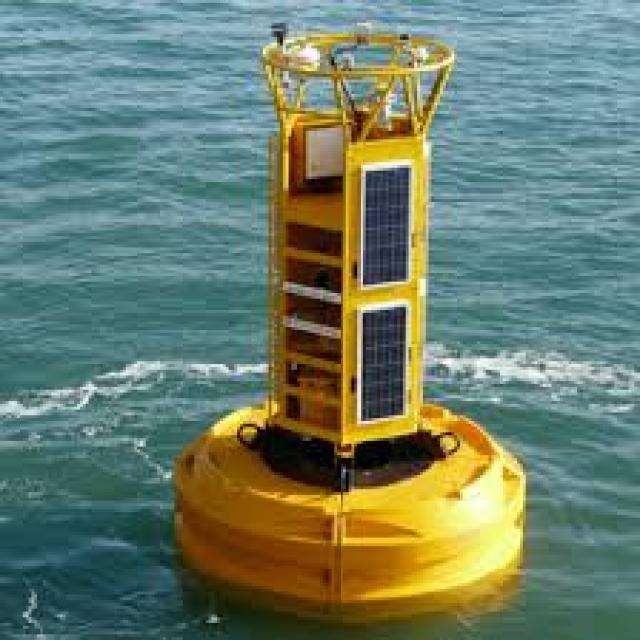buoy: (168, 3, 531, 618)
